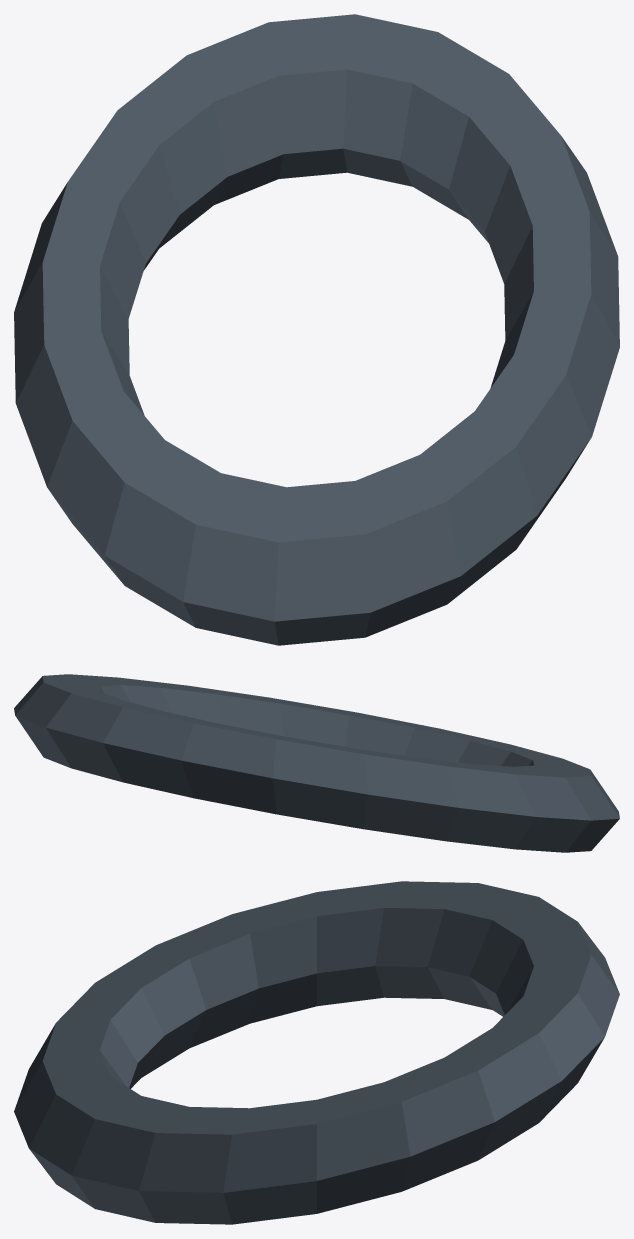
Rendered from Checkpoint_RingIdle.gltf.
The picture shows the model from 3 angles, top to bottom: view 1: azimuth 30°, elevation 25°; view 2: azimuth 150°, elevation 25°; view 3: azimuth 270°, elevation 25°; orthographic projection. The views are drawn at different scales.
Parts seen in each view (by area): view 1: Checkpoint_RingIdle_baked; view 2: Checkpoint_RingIdle_baked; view 3: Checkpoint_RingIdle_baked.
Part boxes in pixels (x1=…): Checkpoint_RingIdle_baked: x1=14, y1=14, x2=619, y2=645; Checkpoint_RingIdle_baked: x1=14, y1=674, x2=619, y2=852; Checkpoint_RingIdle_baked: x1=14, y1=881, x2=619, y2=1224.
Size of the model in its own units: 0.3976 by 0.1946 by 0.37.
